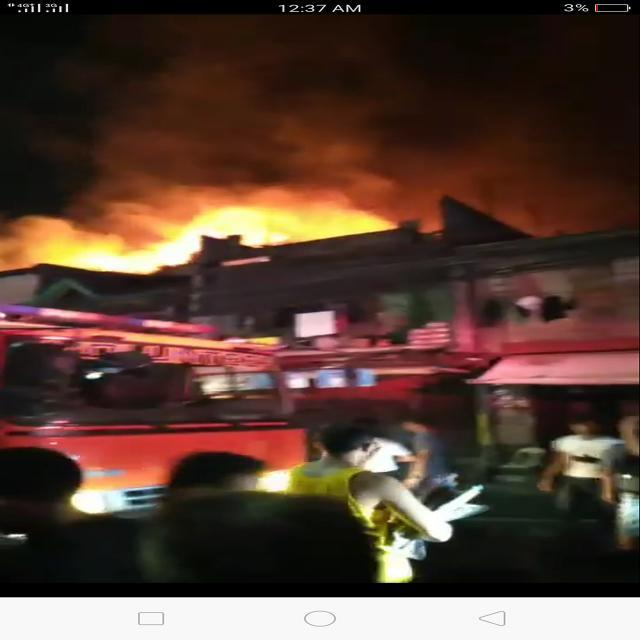Fire: (59, 198, 274, 270)
Smoke: (53, 27, 640, 186), (100, 157, 373, 230)
